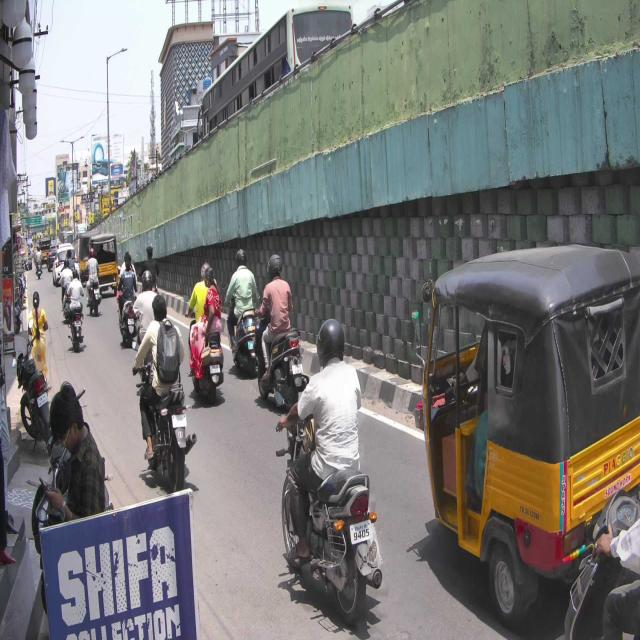single_rider: (274, 316, 384, 624), (131, 290, 199, 493)
